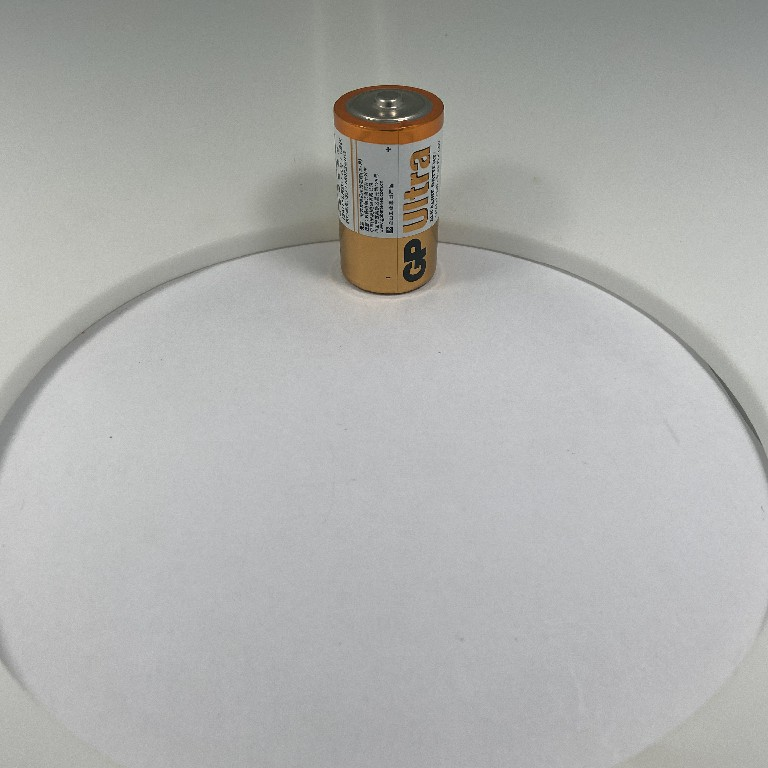charge: (330, 83, 449, 297)
